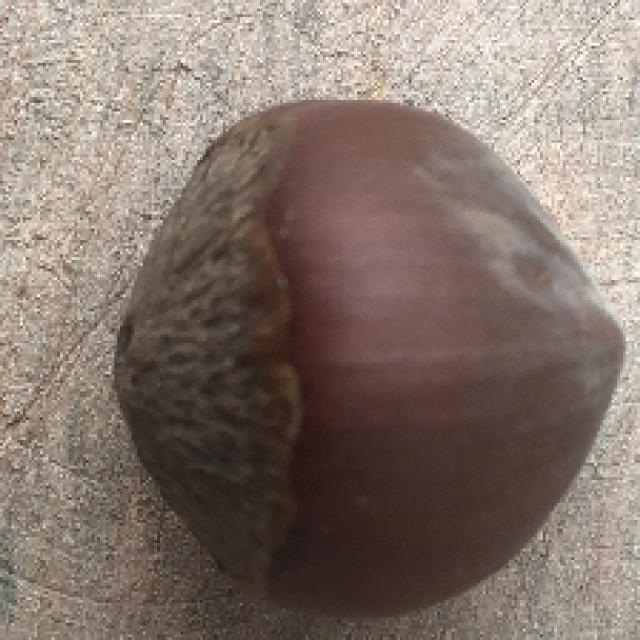qualityHazelnut: (107, 83, 628, 620)
